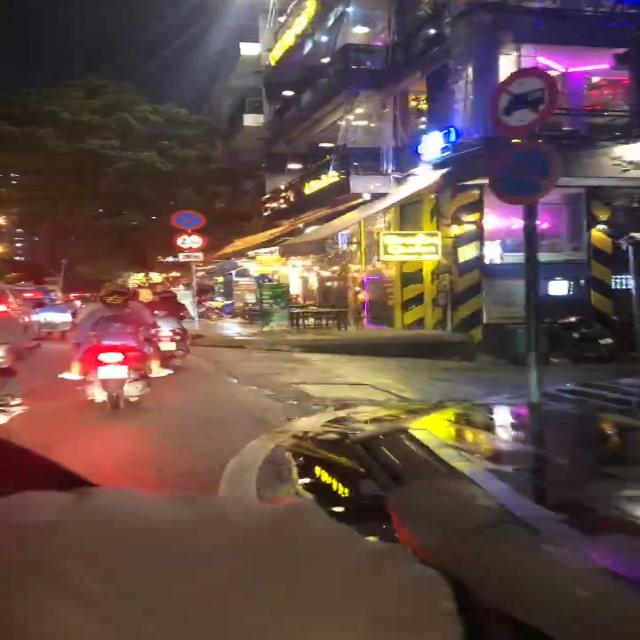Bien bao cam dung xe va do xe: (168, 208, 214, 230)
Bien bao han che chieu cao: (170, 231, 210, 252)
